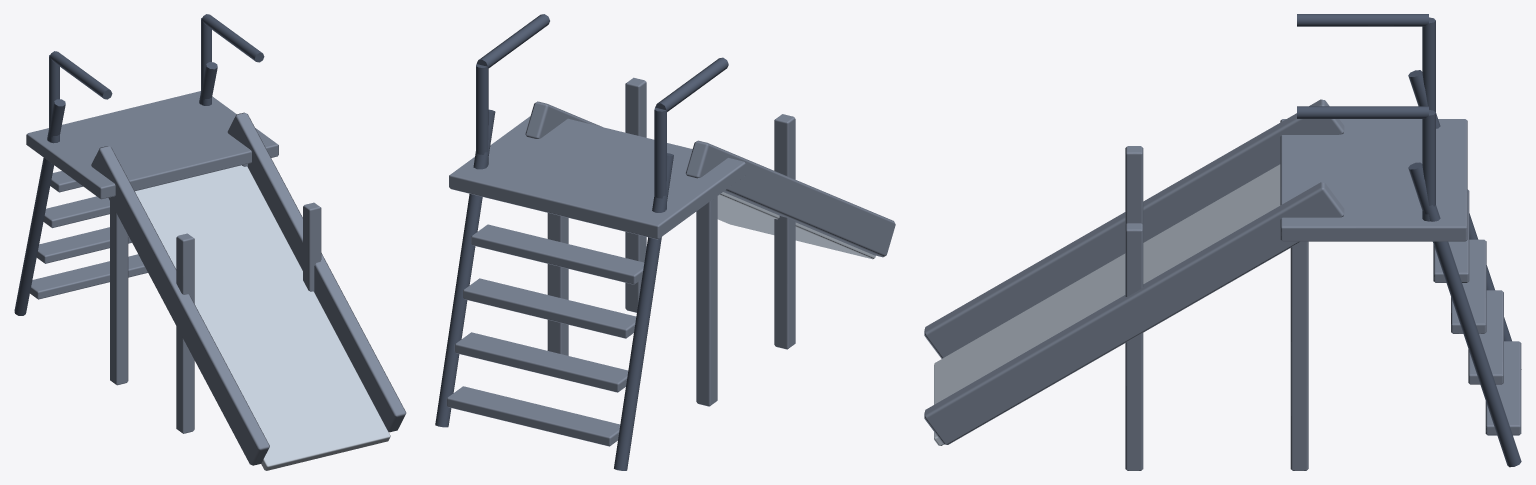
The model's file is garden-slide-lite.glb.
3 views of the same model, side by side, from view 1: azimuth 30°, elevation 25°; view 2: azimuth 150°, elevation 25°; view 3: azimuth 270°, elevation 25° (orthographic). The views are drawn at different scales.
Visible parts, largest first — view 1: garden-slide; view 2: garden-slide; view 3: garden-slide.
Boxes of the visible parts, x1,y1,x2,y2 form: garden-slide: (14, 14, 406, 470); garden-slide: (435, 14, 895, 470); garden-slide: (924, 14, 1521, 470).
Bounding box in the file's own units: 0.95 × 1.5 × 2.2.
